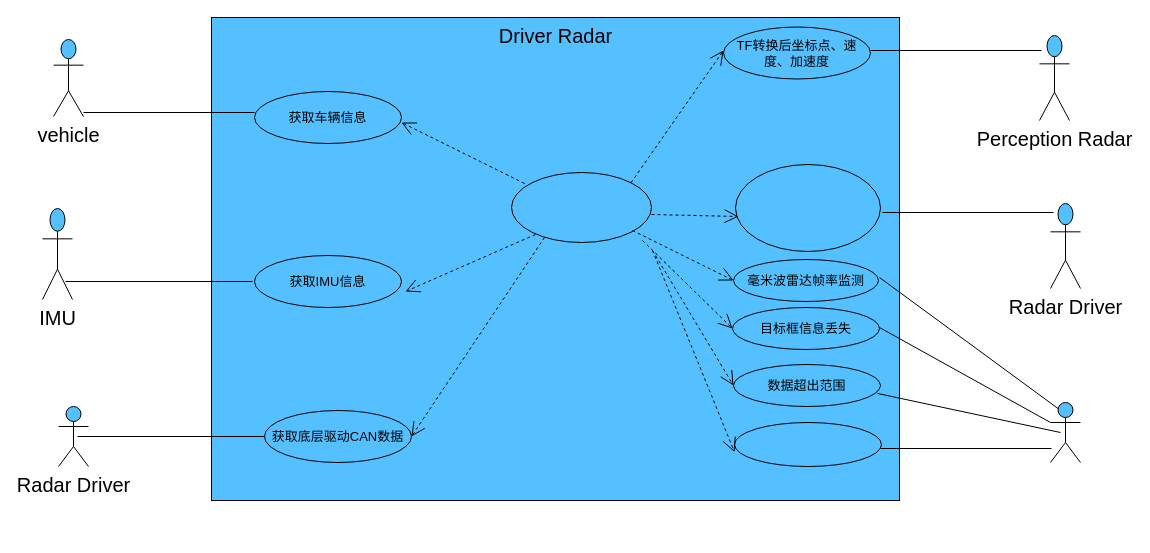
This 1150x553 diagram has some shape labels left out. The box of each missing label's shape, as (x1, y1, x2, y2) in pixels:
Driver Radar Process: (510, 172, 652, 242)
FSM: (1050, 402, 1080, 462)
车辆、偏航率转为CAN数据下发至驱动层: (734, 164, 880, 252)
进程监测: (734, 422, 882, 466)
